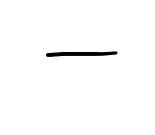minus: (47, 51, 118, 57)
